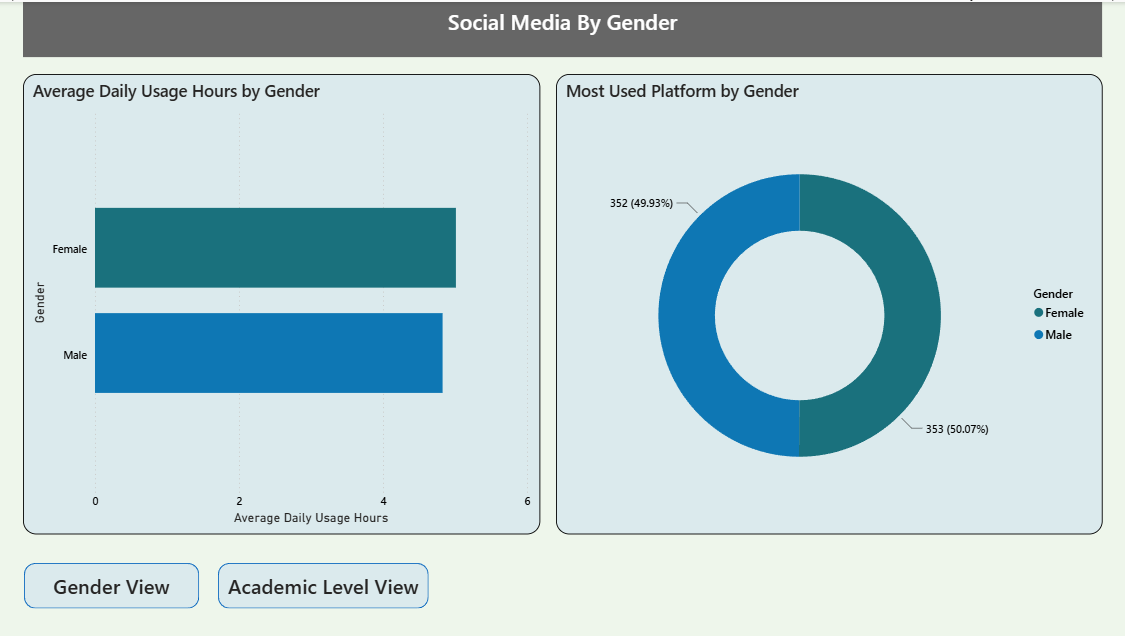

The dashboard page shown, as its layout file describes it:
{"tool":"powerbi","page":{"name":"Social Media Interaction","canvas":[1280,720],"ordinal":5},"visuals":[{"type":"barChart","title":"Average Daily Usage Hours by Gender","fields":{"Y":["Avg(Platform Details.Avg_Daily_Usage_Hours)"],"Category":["Student Details.Gender"]},"box":[30.8,80.9,582.2,518.4],"z":0},{"type":"donutChart","title":"Most Used Platform by Gender","fields":{"Y":["CountNonNull(Platform Details.Most_Used_Platform)"],"Series":["Student Details.Gender"]},"box":[630,80.9,615.2,518.4],"z":1000},{"type":"textbox","box":[30.8,0,1214.4,61.5],"z":2000},{"type":"shape","box":[31.9,631.1,197.1,51.3],"z":6000},{"type":"shape","box":[249.5,631.1,237,51.3],"z":7000}]}

Visuals, with their boxes in screenshot pixels (x1, y1, x2, y2), scaled from the page's 1280x720 canvas onto the 1125x636 screenshot:
"Average Daily Usage Hours by Gender" barChart: bbox=(27, 71, 539, 529)
"Most Used Platform by Gender" donutChart: bbox=(554, 71, 1094, 529)
textbox: bbox=(27, 0, 1094, 54)
shape: bbox=(28, 557, 201, 603)
shape: bbox=(219, 557, 428, 603)
